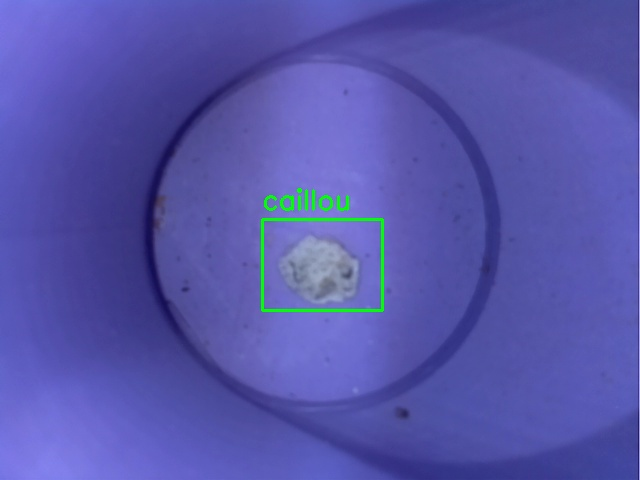caillou: (262, 219, 382, 310)
